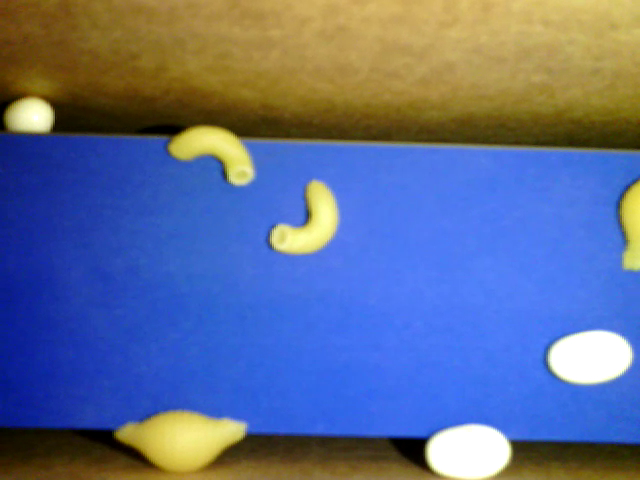elbow: (267, 176, 341, 256), (168, 124, 255, 184)
shell: (114, 407, 249, 470), (619, 178, 639, 271)
